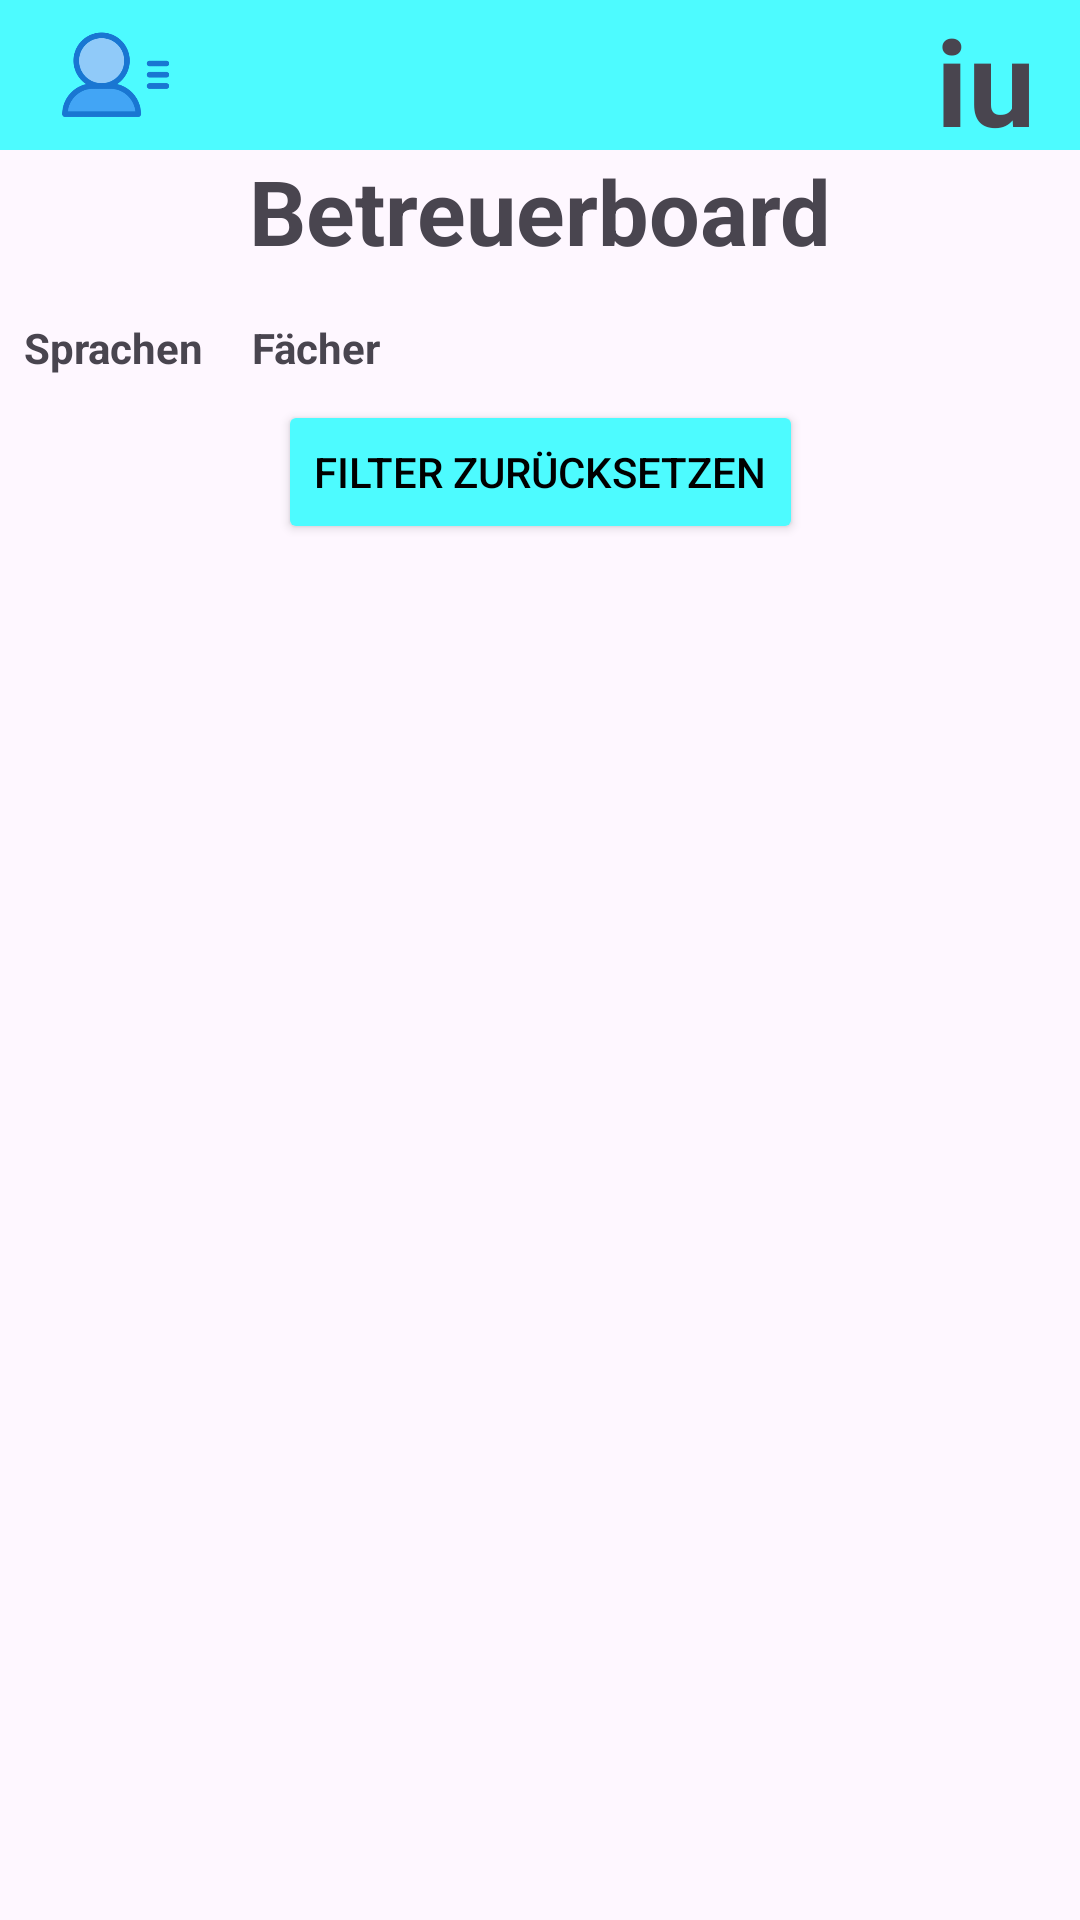

Where to tap for icons on this 1080×1920 app screen, as [x,y]:
profileimage: [115,74]
